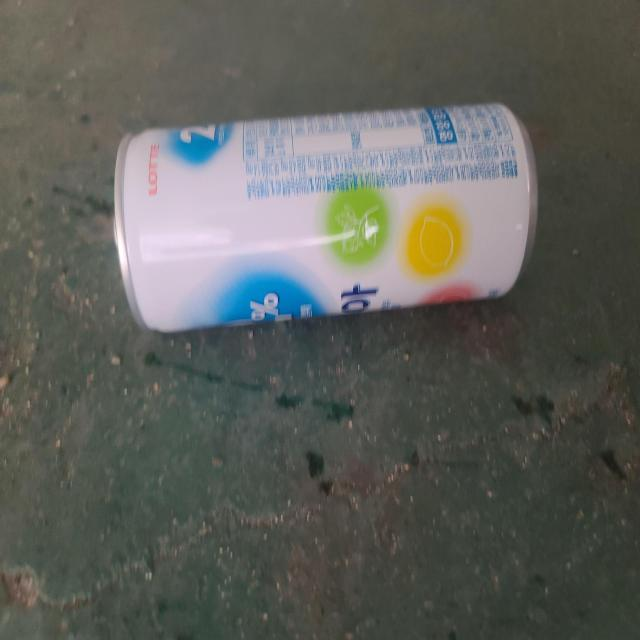can: (114, 102, 538, 331)
